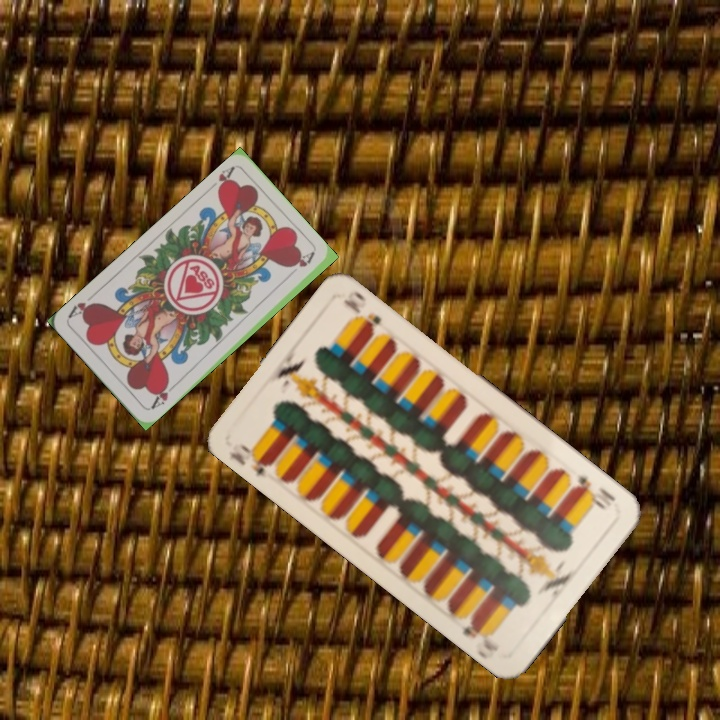E10: (227, 439, 277, 482), (569, 470, 618, 513)
HA: (146, 378, 178, 412), (213, 162, 237, 196)
